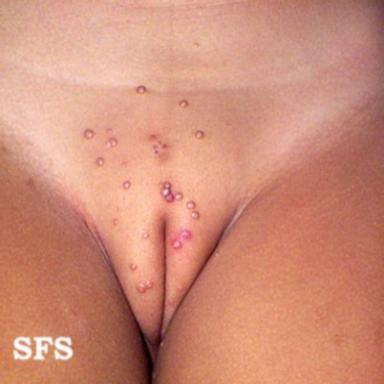Molluscum-Contagiosum: (149, 134, 169, 163), (161, 182, 183, 203), (187, 200, 199, 219), (137, 281, 154, 293), (107, 137, 118, 148), (180, 229, 191, 240), (136, 85, 146, 94), (84, 129, 94, 138), (172, 240, 182, 249), (123, 180, 131, 190), (179, 100, 188, 108), (96, 158, 104, 166), (196, 130, 203, 138), (113, 218, 119, 226), (129, 264, 137, 270), (142, 232, 149, 238), (169, 299, 174, 306), (107, 128, 112, 133), (178, 285, 182, 290)
